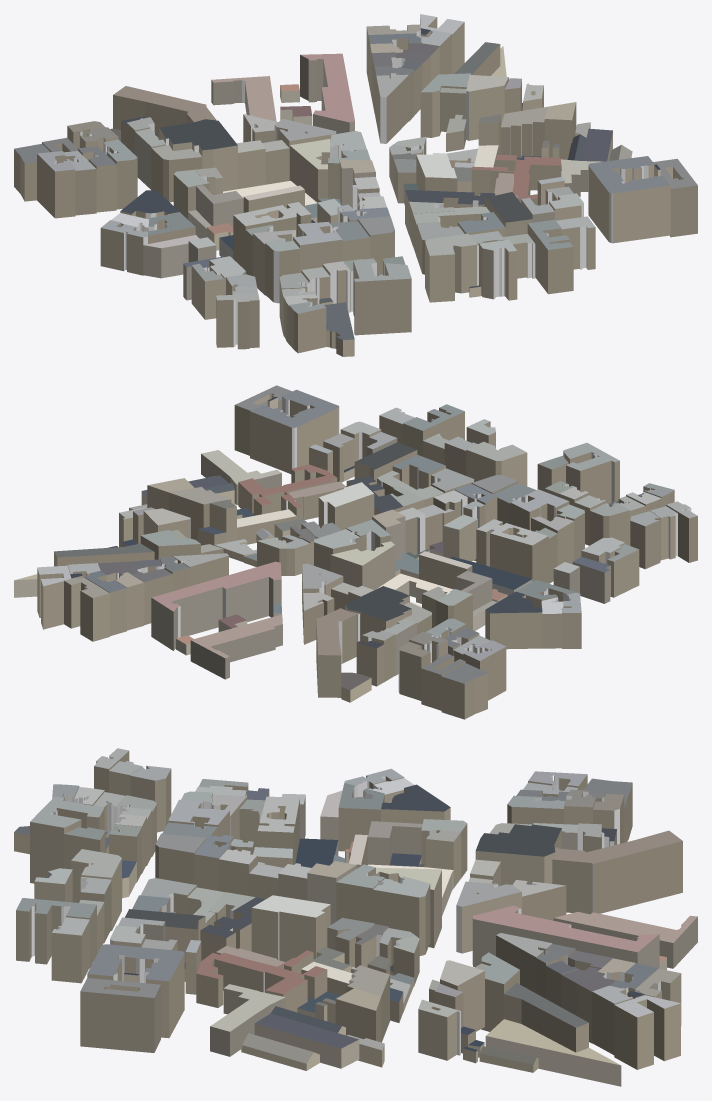
3 views of the same model, one above another, from view 1: azimuth 30°, elevation 25°; view 2: azimuth 150°, elevation 25°; view 3: azimuth 270°, elevation 25° (orthographic). The views are drawn at different scales.
Visible parts, largest first — view 1: tuile; view 2: tuile; view 3: tuile.
Part boxes in pixels (x1,y1,x2,y2): tuile: (14,14,697,356); tuile: (14,385,697,719); tuile: (14,748,697,1086).
Size of the model in its own units: 277 by 40.24 by 284.
